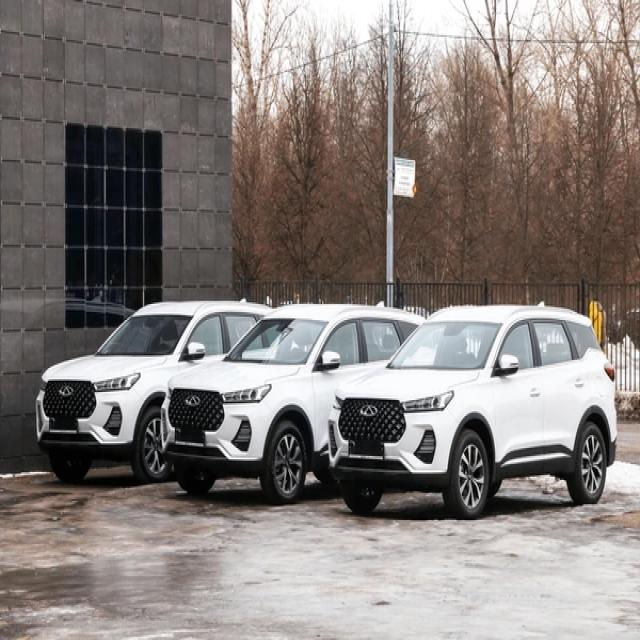mazda: (359, 403, 378, 416), (57, 383, 74, 395), (186, 395, 201, 407)
